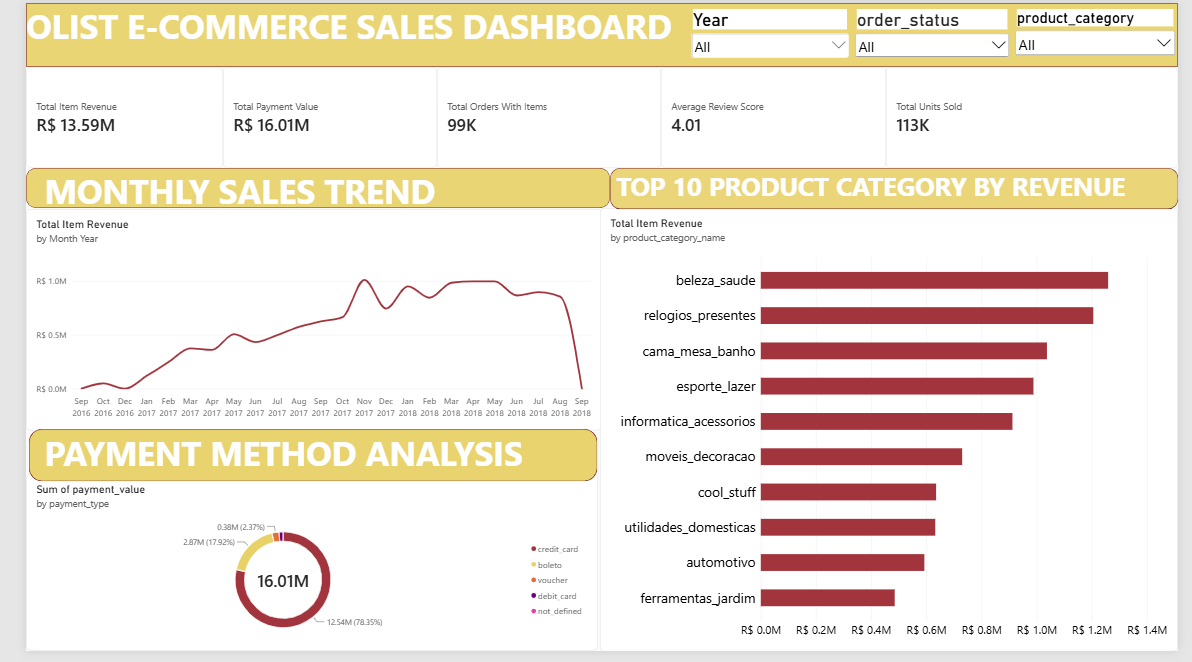

The page's visual inventory and layout, read from the dashboard file:
{"tool":"powerbi","page":{"name":"Sales Overview","canvas":[1920,1080],"ordinal":0},"visuals":[{"type":"cardVisual","fields":{"Data":["ecommerce_sales olist_order_items_dataset.Total Item Revenue"]},"box":[0,106.7,328.3,168.3],"z":0},{"type":"cardVisual","fields":{"Data":["ecommerce_sales olist_order_items_dataset.Total Orders With Items"]},"box":[685,106.7,373.3,168.3],"z":1000},{"type":"cardVisual","fields":{"Data":["ecommerce_sales olist_order_items_dataset.Total Units Sold"]},"box":[1433.3,106.7,486.7,168.3],"z":2000},{"type":"cardVisual","fields":{"Data":["ecommerce_sales olist_order_reviews_dataset.Average Review Score"]},"box":[1058.3,106.7,375,168.3],"z":3000},{"type":"cardVisual","fields":{"Data":["ecommerce_sales olist_order_payments_dataset.Total Payment Value"]},"box":[328.3,106.7,356.7,168.3],"z":4000},{"type":"lineChart","fields":{"Category":["ecommerce_sales olist_orders_clean.Month Year"],"Y":["ecommerce_sales olist_order_items_dataset.Total Item Revenue"]},"box":[0,342.9,960,368.6],"z":5000},{"type":"clusteredBarChart","fields":{"Category":["ecommerce_sales olist_products_dataset.product_category_name"],"Y":["ecommerce_sales olist_order_items_dataset.Total Item Revenue"]},"box":[957.1,341.4,962.9,738.6],"z":6000},{"type":"donutChart","fields":{"Category":["ecommerce_sales olist_order_payments_dataset.payment_type"],"Y":["Sum(ecommerce_sales olist_order_payments_dataset.payment_value)"]},"box":[0,785.7,952.9,294.3],"z":7000},{"type":"shape","box":[0,0,1920,106.7],"z":8000},{"type":"textbox","box":[0,0,1086.7,126.7],"z":9000},{"type":"textbox","box":[0,383,423,265],"z":10000},{"type":"shape","box":[0,275,973.3,66.7],"z":11000},{"type":"textbox","box":[0,275,716.7,78.3],"z":12000},{"type":"slicer","fields":{"Values":["ecommerce_sales olist_orders_clean.order_purchase_timestamp"]},"box":[1103.3,10,273.3,106.7],"z":13000},{"type":"slicer","fields":{"Values":["ecommerce_sales olist_orders_clean.order_status"]},"box":[1376.7,10,266.7,86.7],"z":14000},{"type":"slicer","fields":{"Values":["ecommerce_sales olist_products_dataset.product_category_name"]},"box":[1643.3,10,276.7,106.7],"z":15000},{"type":"shape","box":[972.9,275.7,947.1,68.6],"z":16000},{"type":"textbox","box":[960,275,891.7,78.3],"z":17000},{"type":"shape","box":[5.7,710,947.1,87.1],"z":18000},{"type":"textbox","box":[0,711.7,855,85],"z":19000}]}

Visuals, with their boxes in screenshot pixels (x1, y1, x2, y2), scaled from the page's 1920x1080 canvas onto the 1192x662 screenshot:
cardVisual - ecommerce_sales olist_order_items_dataset.Total Item Revenue: <box>0,65,204,169</box>
cardVisual - ecommerce_sales olist_order_items_dataset.Total Orders With Items: <box>425,65,657,169</box>
cardVisual - ecommerce_sales olist_order_items_dataset.Total Units Sold: <box>890,65,1191,169</box>
cardVisual - ecommerce_sales olist_order_reviews_dataset.Average Review Score: <box>657,65,890,169</box>
cardVisual - ecommerce_sales olist_order_payments_dataset.Total Payment Value: <box>204,65,425,169</box>
lineChart - ecommerce_sales olist_orders_clean.Month Year x ecommerce_sales olist_order_items_dataset.Total Item Revenue: <box>0,210,596,436</box>
clusteredBarChart - ecommerce_sales olist_products_dataset.product_category_name x ecommerce_sales olist_order_items_dataset.Total Item Revenue: <box>594,209,1191,661</box>
donutChart - ecommerce_sales olist_order_payments_dataset.payment_type x Sum(ecommerce_sales olist_order_payments_dataset.payment_value): <box>0,482,592,661</box>
shape: <box>0,0,1191,65</box>
textbox: <box>0,0,675,78</box>
textbox: <box>0,235,263,397</box>
shape: <box>0,169,604,209</box>
textbox: <box>0,169,445,217</box>
slicer - ecommerce_sales olist_orders_clean.order_purchase_timestamp: <box>685,6,855,72</box>
slicer - ecommerce_sales olist_orders_clean.order_status: <box>855,6,1020,59</box>
slicer - ecommerce_sales olist_products_dataset.product_category_name: <box>1020,6,1191,72</box>
shape: <box>604,169,1191,211</box>
textbox: <box>596,169,1150,217</box>
shape: <box>4,435,592,489</box>
textbox: <box>0,436,531,488</box>
